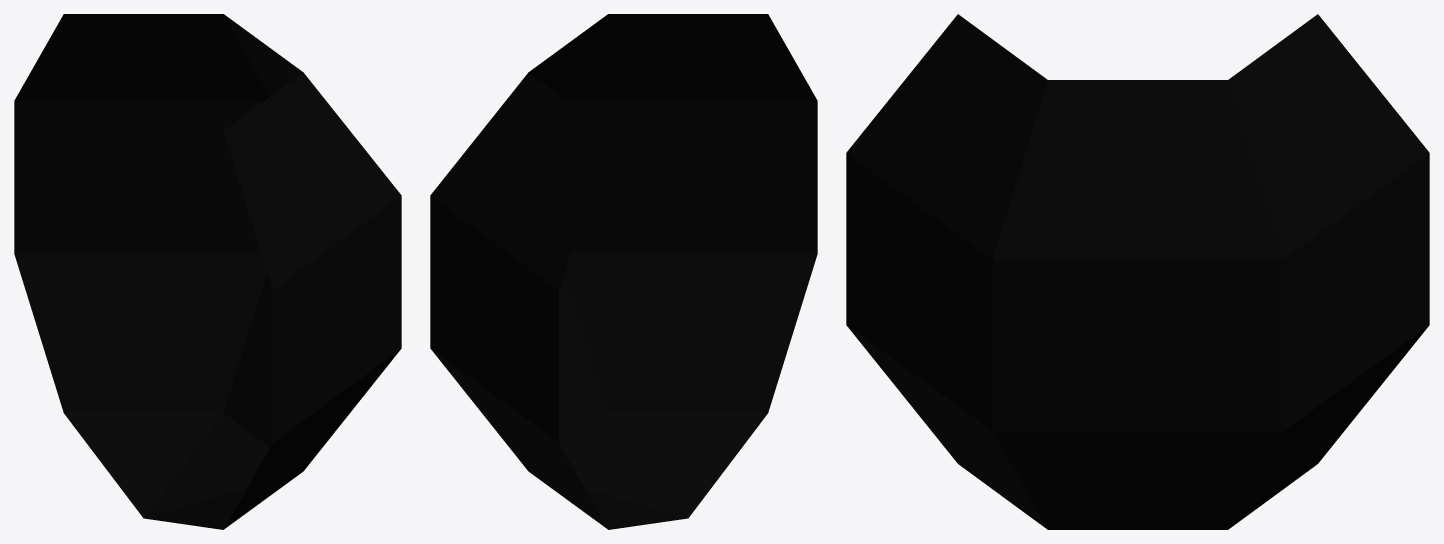
File: 34_efe.gltf
3 renders of one model, left to right at view 1: azimuth 30°, elevation 25°; view 2: azimuth 150°, elevation 25°; view 3: azimuth 270°, elevation 25°, orthographic. The views are drawn at different scales.
Size of the model in its own units: 255 by 561 by 590.
Materials: 1 (1 with a texture image).
